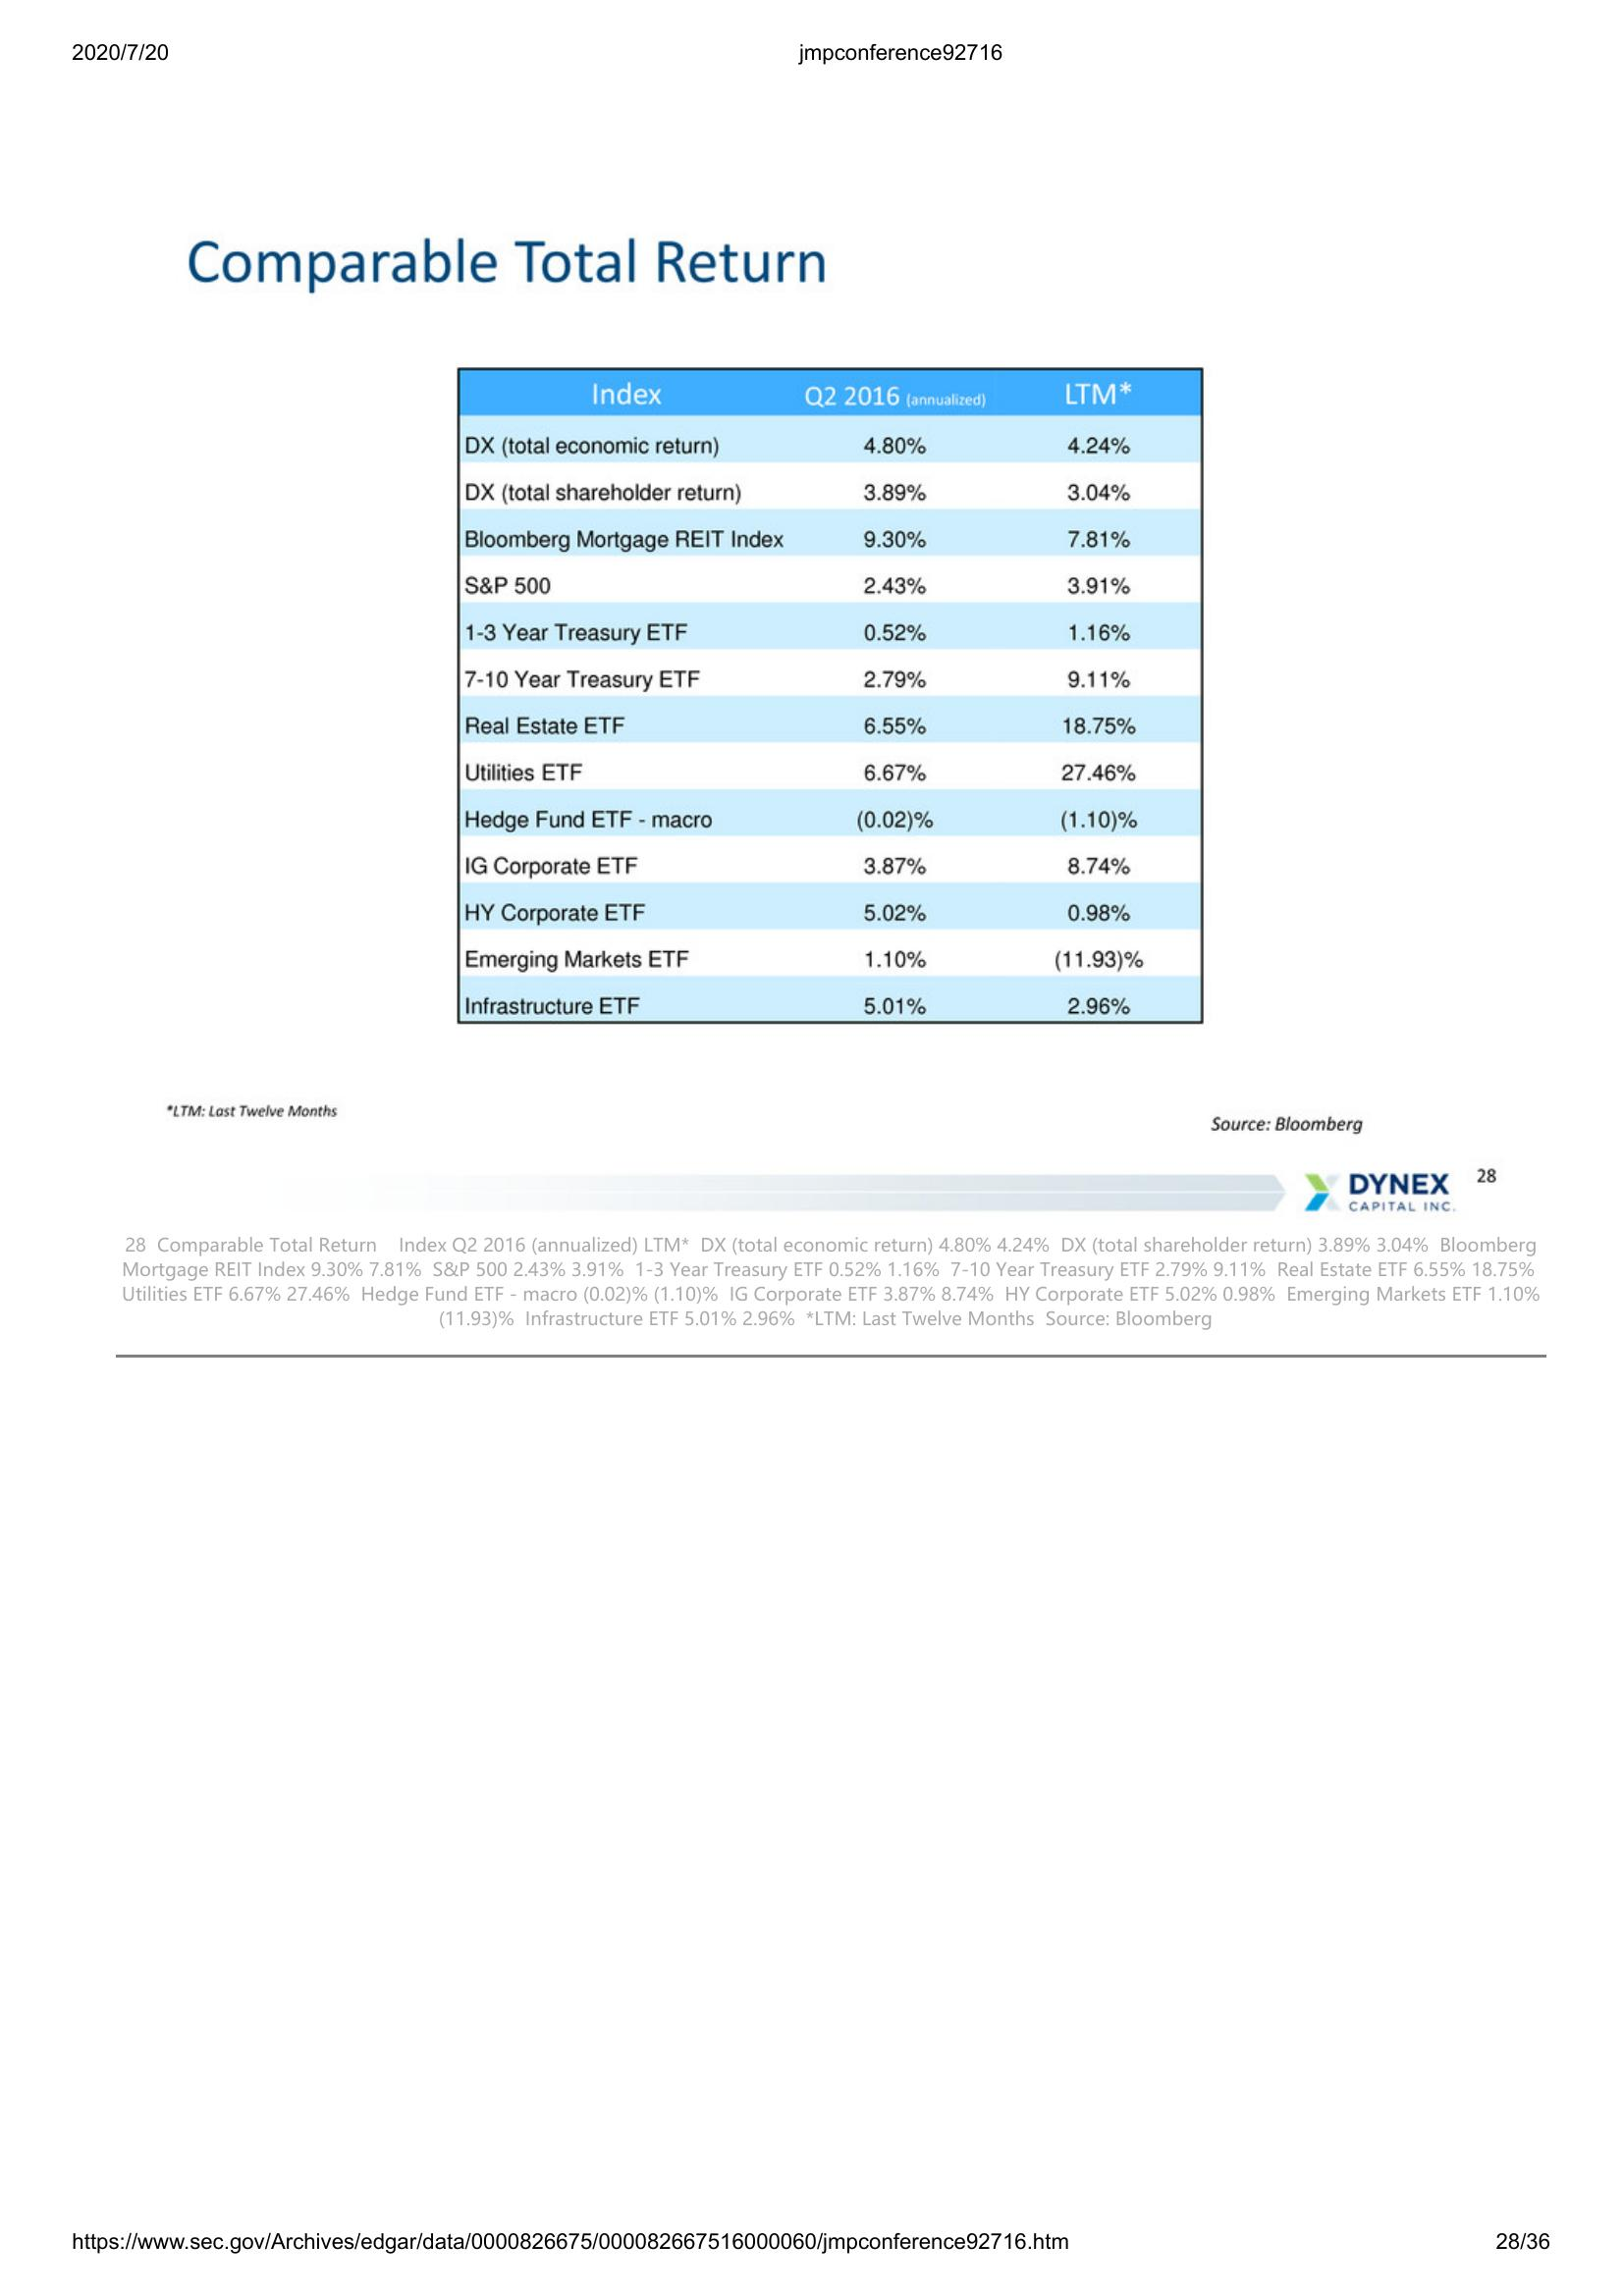table: (453, 362, 1210, 1032)
